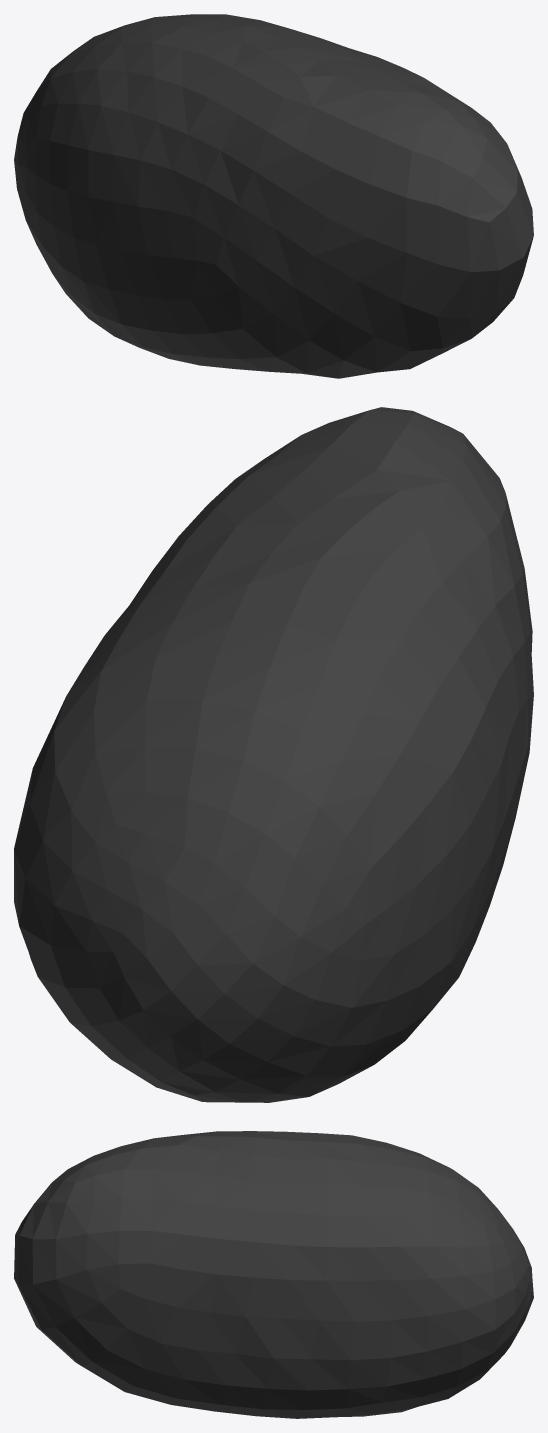
The model's file is Palmar_sesamoid_1.glb.
3 views of the same model, one above another, from view 1: azimuth 30°, elevation 25°; view 2: azimuth 150°, elevation 25°; view 3: azimuth 270°, elevation 25° (orthographic). The views are drawn at different scales.
Visible parts, largest first — view 1: Palmar_sesamoid_1; view 2: Palmar_sesamoid_1; view 3: Palmar_sesamoid_1.
Part boxes in pixels (bbox=[...]): Palmar_sesamoid_1: bbox=[14, 14, 533, 378]; Palmar_sesamoid_1: bbox=[14, 407, 533, 1102]; Palmar_sesamoid_1: bbox=[14, 1131, 533, 1418].
Bounding box in the file's own units: 0.0246 × 0.0265 × 0.0457.
1 material, 1 textured.
